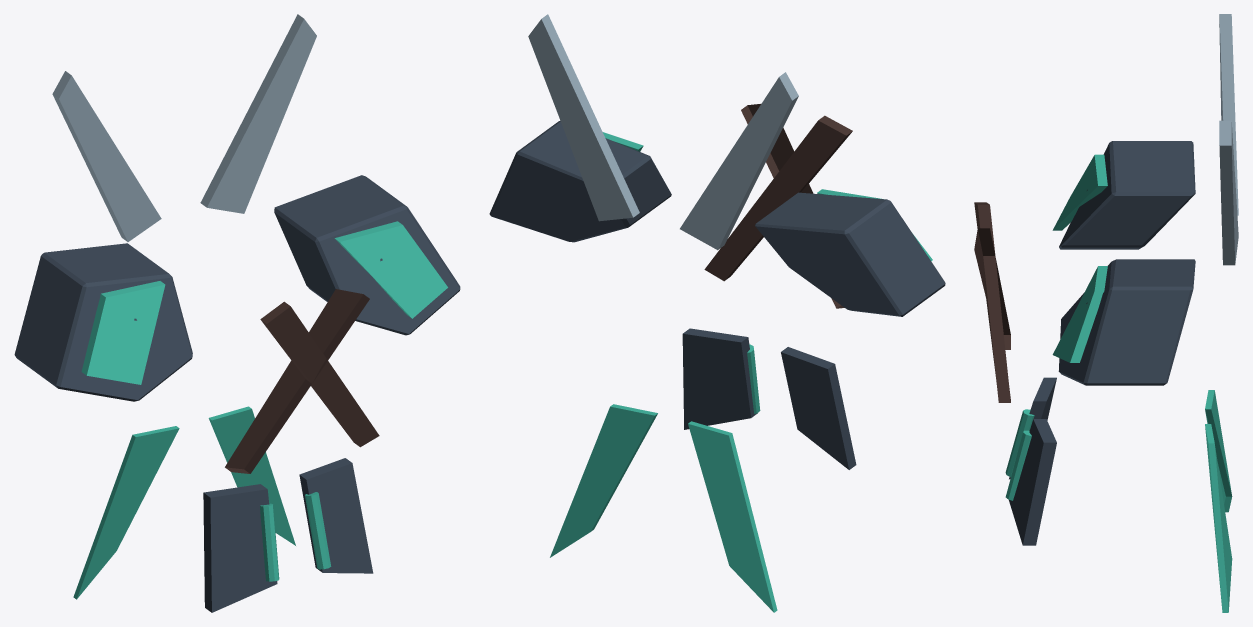
File: forge-skirmisher-v2.glb
3 views of the same model, side by side, from view 1: azimuth 30°, elevation 25°; view 2: azimuth 150°, elevation 25°; view 3: azimuth 270°, elevation 25° (orthographic). The views are drawn at different scales.
Parts seen in each view (by area): view 1: 사냥꾼 가슴띠, 허리 파편, 어깨 외곽, 어깨 외곽.001; view 2: 허리 파편, 사냥꾼 가슴띠, 어깨 외곽, 어깨 외곽.001; view 3: 어깨 외곽.001, 어깨 외곽, 허리 파편, 사냥꾼 가슴띠.
Boxes of the visible parts, x1,y1,x2,y2 form: 사냥꾼 가슴띠: (52,14,379,473); 허리 파편: (73,406,373,612); 어깨 외곽: (14,243,192,401); 어깨 외곽.001: (274,175,460,335); 허리 파편: (550,328,856,612); 사냥꾼 가슴띠: (528,14,852,308); 어깨 외곽: (755,189,945,316); 어깨 외곽.001: (489,120,671,242); 어깨 외곽.001: (1052,259,1195,385); 어깨 외곽: (1052,141,1195,249); 허리 파편: (1005,377,1232,612); 사냥꾼 가슴띠: (974,14,1238,402).
Bounding box in the file's own units: 1.25 × 1.56 × 0.755.
